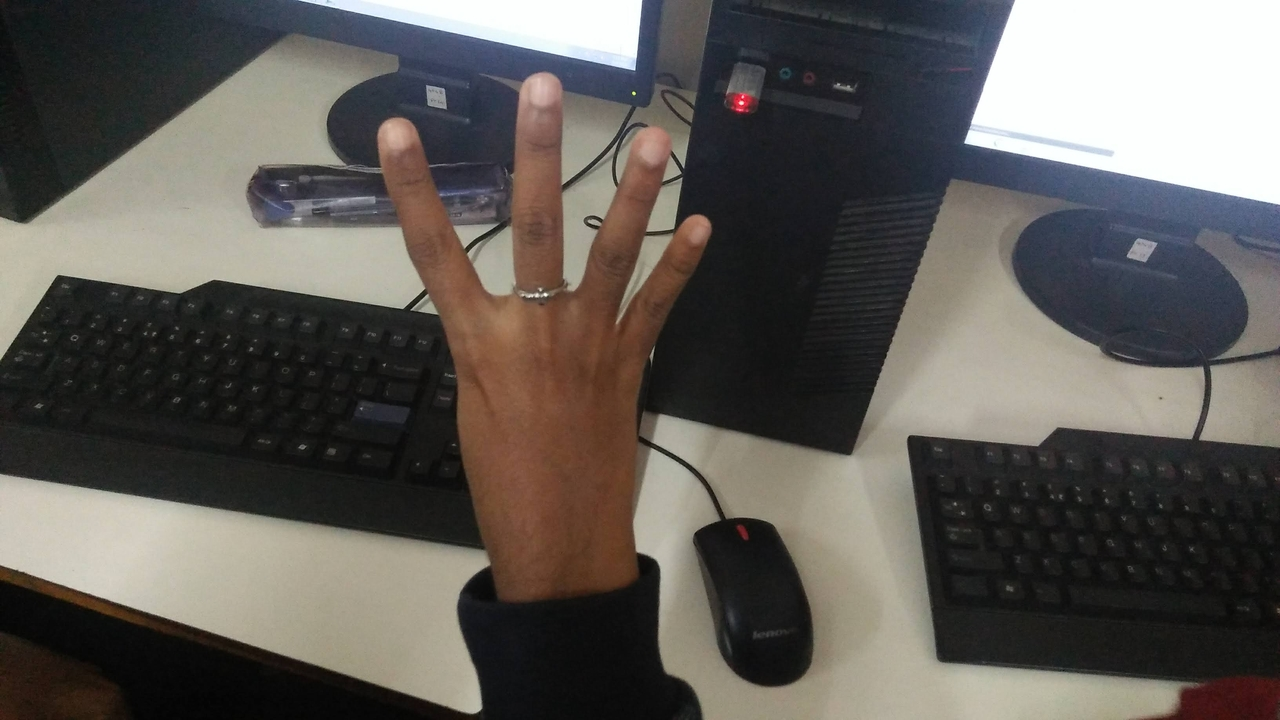fingertip: (614, 114, 676, 178), (368, 110, 426, 168), (662, 200, 722, 254), (508, 64, 568, 116)
